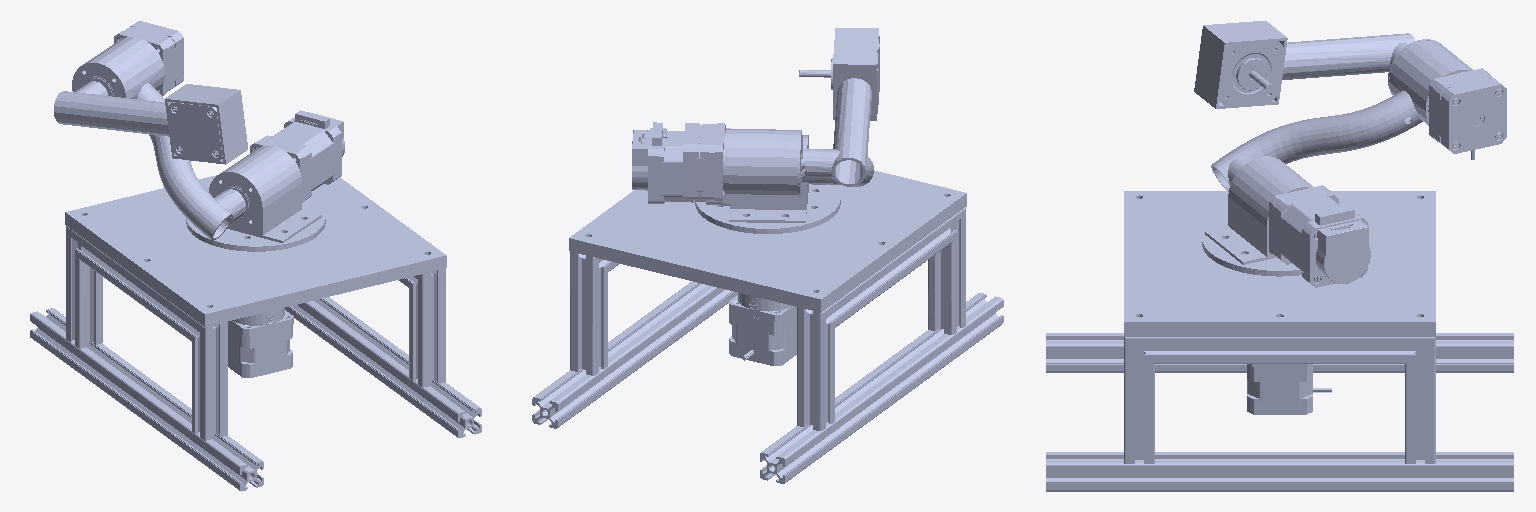
The robot description file, URDF, robot "delay_tube_arm_assm":
<?xml version="1.0" encoding="utf-8"?>
<!-- This URDF was automatically created by SolidWorks to URDF Exporter! Originally created by [author] ([email redacted]) 
     Commit Version: 1.6.0-1-g15f4949  Build Version: 1.6.7594.29634
     For more information, please see http://wiki.ros.org/sw_urdf_exporter -->
<robot
  name="delay_tube_arm_assm">
  <link
    name="base_link">
    <inertial>
      <origin
        xyz="3.86209103842051E-06 6.01687125273654E-06 -0.0330326270350078"
        rpy="0 0 0" />
      <mass
        value="0.731749593185753" />
      <inertia
        ixx="0.00233902413448347"
        ixy="-4.99147368230219E-12"
        ixz="-1.00837721323294E-08"
        iyy="0.00141143034281188"
        iyz="9.59845008143122E-12"
        izz="0.0036217858731399" />
    </inertial>
    <visual>
      <origin
        xyz="0 0 0"
        rpy="0 0 0" />
      <geometry>
        <mesh
          filename="package://delay_tube_arm_assm/meshes/base_link.STL" />
      </geometry>
      <material
        name="">
        <color
          rgba="0.792156862745098 0.819607843137255 0.933333333333333 1" />
      </material>
    </visual>
    <collision>
      <origin
        xyz="0 0 0"
        rpy="0 0 0" />
      <geometry>
        <mesh
          filename="package://delay_tube_arm_assm/meshes/base_link.STL" />
      </geometry>
    </collision>
  </link>
  <link
    name="Link_1">
    <inertial>
      <origin
        xyz="0.00488053170287495 0.021659092355086 0.0308724325266844"
        rpy="0 0 0" />
      <mass
        value="0.240991348683693" />
      <inertia
        ixx="0.00010324149549393"
        ixy="-4.90037944851914E-06"
        ixz="-1.18982487543498E-07"
        iyy="8.25989727655583E-05"
        iyz="-5.30129495736634E-07"
        izz="0.000126890715770312" />
    </inertial>
    <visual>
      <origin
        xyz="0 0 0"
        rpy="0 0 0" />
      <geometry>
        <mesh
          filename="package://delay_tube_arm_assm/meshes/Link_1.STL" />
      </geometry>
      <material
        name="">
        <color
          rgba="0.792156862745098 0.819607843137255 0.933333333333333 1" />
      </material>
    </visual>
    <collision>
      <origin
        xyz="0 0 0"
        rpy="0 0 0" />
      <geometry>
        <mesh
          filename="package://delay_tube_arm_assm/meshes/Link_1.STL" />
      </geometry>
    </collision>
  </link>
  <joint
    name="Joint_1"
    type="revolute">
    <origin
      xyz="0 0 0"
      rpy="0 0 -0.86565" />
    <parent
      link="base_link" />
    <child
      link="Link_1" />
    <axis
      xyz="0 0 1" />
    <limit
      lower="0"
      upper="0"
      effort="0"
      velocity="0" />
  </joint>
  <link
    name="Link_2">
    <inertial>
      <origin
        xyz="-0.0346602696006751 0.00814762414799671 0.107280322063265"
        rpy="0 0 0" />
      <mass
        value="0.145059340528544" />
      <inertia
        ixx="0.000165229751263735"
        ixy="7.9241811092054E-06"
        ixz="2.19388592150161E-05"
        iyy="0.00013570082909347"
        iyz="-4.66514115340819E-05"
        izz="7.54935461242882E-05" />
    </inertial>
    <visual>
      <origin
        xyz="0 0 0"
        rpy="0 0 0" />
      <geometry>
        <mesh
          filename="package://delay_tube_arm_assm/meshes/Link_2.STL" />
      </geometry>
      <material
        name="">
        <color
          rgba="0.792156862745098 0.819607843137255 0.933333333333333 1" />
      </material>
    </visual>
    <collision>
      <origin
        xyz="0 0 0"
        rpy="0 0 0" />
      <geometry>
        <mesh
          filename="package://delay_tube_arm_assm/meshes/Link_2.STL" />
      </geometry>
    </collision>
  </link>
  <joint
    name="Joint_2"
    type="revolute">
    <origin
      xyz="0 0 0.0361"
      rpy="-0.2173 -0.76331 0.087499" />
    <parent
      link="Link_1" />
    <child
      link="Link_2" />
    <axis
      xyz="0.21982 0.97554 0" />
    <limit
      lower="0"
      upper="0"
      effort="0"
      velocity="0" />
  </joint>
  <link
    name="Link_3">
    <inertial>
      <origin
        xyz="0.0783075959168244 -0.0784232342924955 0.00622479812470229"
        rpy="0 0 0" />
      <mass
        value="0.0827739576079267" />
      <inertia
        ixx="2.22114072127942E-05"
        ixy="2.08893889829391E-05"
        ixz="-4.0560866196817E-06"
        iyy="8.16708003798582E-05"
        iyz="1.33117345895139E-06"
        izz="7.97842045082599E-05" />
    </inertial>
    <visual>
      <origin
        xyz="0 0 0"
        rpy="0 0 0" />
      <geometry>
        <mesh
          filename="package://delay_tube_arm_assm/meshes/Link_3.STL" />
      </geometry>
      <material
        name="">
        <color
          rgba="0.792156862745098 0.819607843137255 0.933333333333333 1" />
      </material>
    </visual>
    <collision>
      <origin
        xyz="0 0 0"
        rpy="0 0 0" />
      <geometry>
        <mesh
          filename="package://delay_tube_arm_assm/meshes/Link_3.STL" />
      </geometry>
    </collision>
  </link>
  <joint
    name="Joint_3"
    type="revolute">
    <origin
      xyz="-0.03963 0.0089299 0.12244"
      rpy="0.18774 0.69174 0.067826" />
    <parent
      link="Link_2" />
    <child
      link="Link_3" />
    <axis
      xyz="0.21982 0.97554 0" />
    <limit
      lower="0"
      upper="0"
      effort="0"
      velocity="0" />
  </joint>
  <link
    name="End_Effector">
    <inertial>
      <origin
        xyz="0.019775 -0.015014 0.0022677"
        rpy="0 0 0" />
      <mass
        value="0.016908" />
      <inertia
        ixx="1.6786E-06"
        ixy="-1.7227E-07"
        ixz="-1.1628E-07"
        iyy="2.1152E-06"
        iyz="-3.9602E-08"
        izz="1.5235E-06" />
    </inertial>
    <visual>
      <origin
        xyz="0 0 0"
        rpy="0 0 0" />
      <geometry>
        <mesh
          filename="package://delay_tube_arm_assm/meshes/End_Effector.STL" />
      </geometry>
      <material
        name="">
        <color
          rgba="0.79216 0.81961 0.93333 1" />
      </material>
    </visual>
    <collision>
      <origin
        xyz="0 0 0"
        rpy="0 0 0" />
      <geometry>
        <mesh
          filename="package://delay_tube_arm_assm/meshes/End_Effector.STL" />
      </geometry>
    </collision>
  </link>
  <joint
    name="Joint_4"
    type="revolute">
    <origin
      xyz="0.10999 -0.024785 0.0074933"
      rpy="0.016492 0.073058 0.00060273" />
    <parent
      link="Link_3" />
    <child
      link="End_Effector" />
    <axis
      xyz="0.21982 0.97554 0" />
    <limit
      lower="0"
      upper="0"
      effort="0"
      velocity="0" />
  </joint>
</robot>

--- Render facts (derived) ---
3 views of the same robot in one strip: view 1: azimuth 30°, elevation 25°; view 2: azimuth 150°, elevation 25°; view 3: azimuth 270°, elevation 25° (orthographic).
Model delay_tube_arm_assm with 5 links and 4 joints (4 revolute), rooted at base_link, posed every joint at zero.
Links seen in each view (by area): view 1: base_link, Link_1, Link_2, Link_3; view 2: base_link, Link_2, Link_1, Link_3; view 3: base_link, Link_2, Link_1, Link_3.
Boxes of the visible links, x1,y1,x2,y2 form: base_link: [30, 175, 481, 491]; Link_1: [186, 110, 344, 251]; Link_2: [72, 21, 245, 240]; Link_3: [54, 81, 247, 164]; base_link: [532, 170, 1003, 483]; Link_2: [683, 123, 873, 202]; Link_1: [632, 122, 840, 233]; Link_3: [799, 28, 879, 186]; base_link: [1046, 191, 1513, 491]; Link_2: [1211, 39, 1506, 191]; Link_1: [1202, 156, 1370, 287]; Link_3: [1194, 21, 1414, 108].
Size in the robot's own frame: 0.2226 by 0.3 by 0.2556 metres.
Meshes: 5 distinct files referenced, 4 mesh visuals loaded (4 binary STL); not drawn: 1 (reference not matched to a file when rendering).